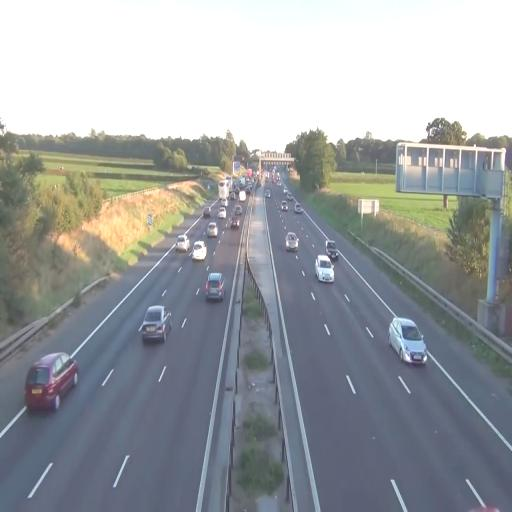vehicle: (24, 351, 78, 413), (388, 317, 428, 367), (140, 304, 172, 345), (315, 254, 334, 284), (206, 272, 224, 302), (284, 232, 300, 252), (193, 240, 207, 262), (205, 221, 219, 243), (176, 233, 190, 253), (326, 243, 339, 263)
